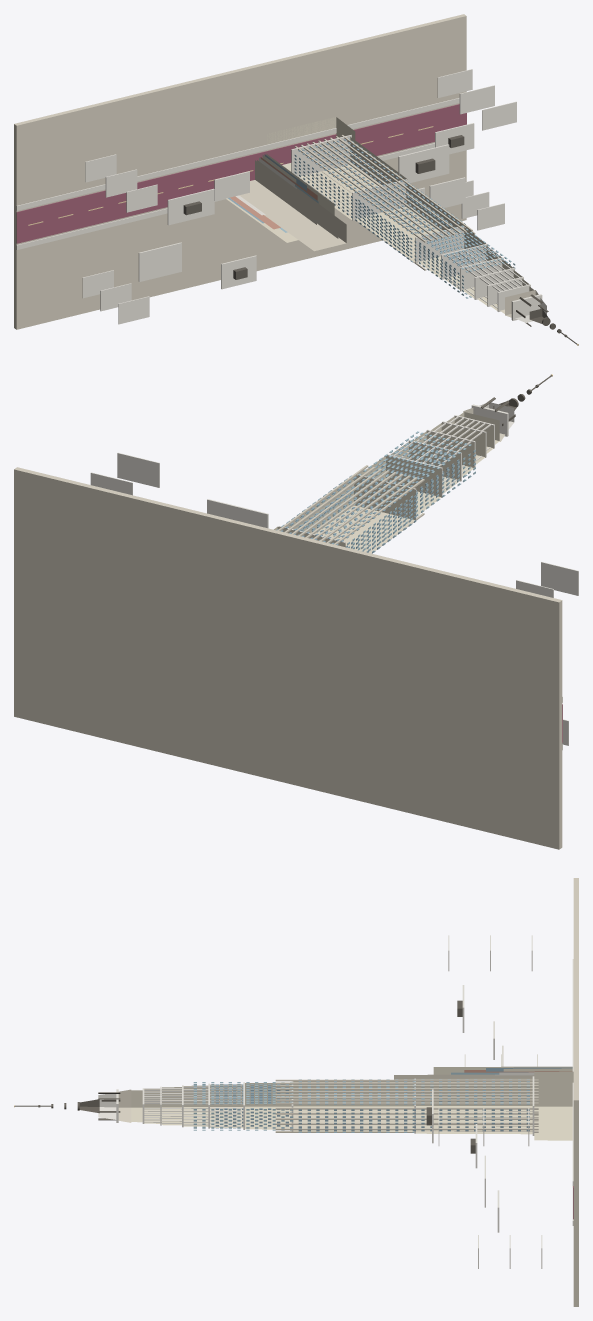
The model's file is empire-state-chatgpt.glb.
3 views of the same model, one above another, from view 1: azimuth 30°, elevation 25°; view 2: azimuth 150°, elevation 25°; view 3: azimuth 270°, elevation 25° (orthographic). The views are drawn at different scales.
Parts seen in each view (by area): view 1: ground, maroon_dividing_road, background_54_-15, geom_2638, esb_tier_2, esb_tier_1, geom_2613, geom_2607, cornice_1, geom_2637, esb_tier_0, geom_2602 (+26 smaller); view 2: ground, esb_tier_2, esb_tier_3, geom_2628, geom_2624, geom_2607, esb_tier_4, esb_tier_5, esb_tier_6; view 3: esb_tier_1, esb_tier_2, esb_tier_0, ground, esb_tier_3, esb_tier_4, esb_tier_5, front_vertical_pier_10, front_vertical_pier_9, front_vertical_pier_15, front_vertical_pier_16, side_pier_4 (+4 smaller).
Boxes of the visible parts, x1,y1,x2,y2 form: ground: [14, 14, 466, 329]; maroon_dividing_road: [16, 104, 466, 243]; background_54_-15: [241, 160, 316, 231]; geom_2638: [16, 98, 459, 210]; esb_tier_2: [356, 186, 461, 262]; esb_tier_1: [301, 137, 407, 219]; geom_2613: [138, 242, 181, 281]; geom_2607: [398, 144, 449, 182]; cornice_1: [291, 135, 351, 176]; geom_2637: [16, 143, 434, 249]; esb_tier_0: [267, 117, 355, 171]; geom_2602: [167, 188, 214, 225]; ground: [14, 467, 562, 849]; esb_tier_2: [288, 475, 415, 553]; esb_tier_3: [360, 456, 441, 514]; geom_2628: [117, 452, 159, 487]; geom_2624: [541, 562, 578, 595]; geom_2607: [207, 499, 268, 528]; esb_tier_4: [390, 441, 460, 493]; esb_tier_5: [413, 431, 474, 477]; esb_tier_6: [431, 423, 485, 464]; esb_tier_1: [416, 1078, 532, 1134]; esb_tier_2: [293, 1081, 414, 1131]; esb_tier_0: [534, 1071, 573, 1140]; ground: [573, 878, 578, 1306]; esb_tier_3: [245, 1083, 291, 1129]; esb_tier_4: [210, 1084, 243, 1128]; esb_tier_5: [183, 1085, 208, 1126]; front_vertical_pier_10: [275, 1082, 538, 1084]; front_vertical_pier_9: [275, 1079, 538, 1081]; front_vertical_pier_15: [275, 1096, 538, 1098]; front_vertical_pier_16: [275, 1099, 538, 1101]; side_pier_4: [275, 1107, 538, 1109].
Bounding box in the file's own units: 120 × 52 × 129.
